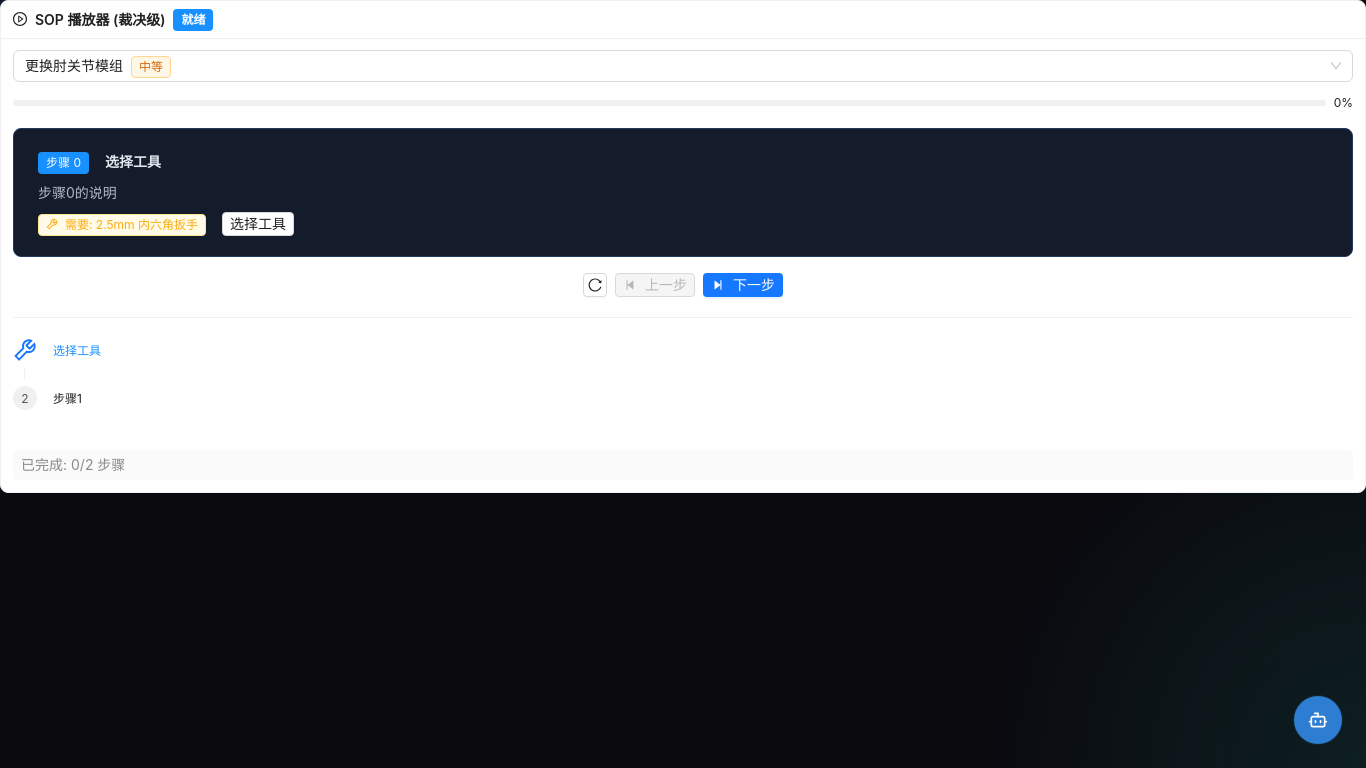
Test: SOPPlayerAdjudicated characterization › enters EXECUTING with an action hint and a 手动验证 button
This screenshot has width=1366, height=768.
IDLE → click executes the step → EXECUTING (no auto-advance due to requiredTool)
What coordinates should you click on to do the following:
click the button "下一步"
I would click on:
 (743, 285)
Its box is top-left (703, 273), bottom-right (783, 297).
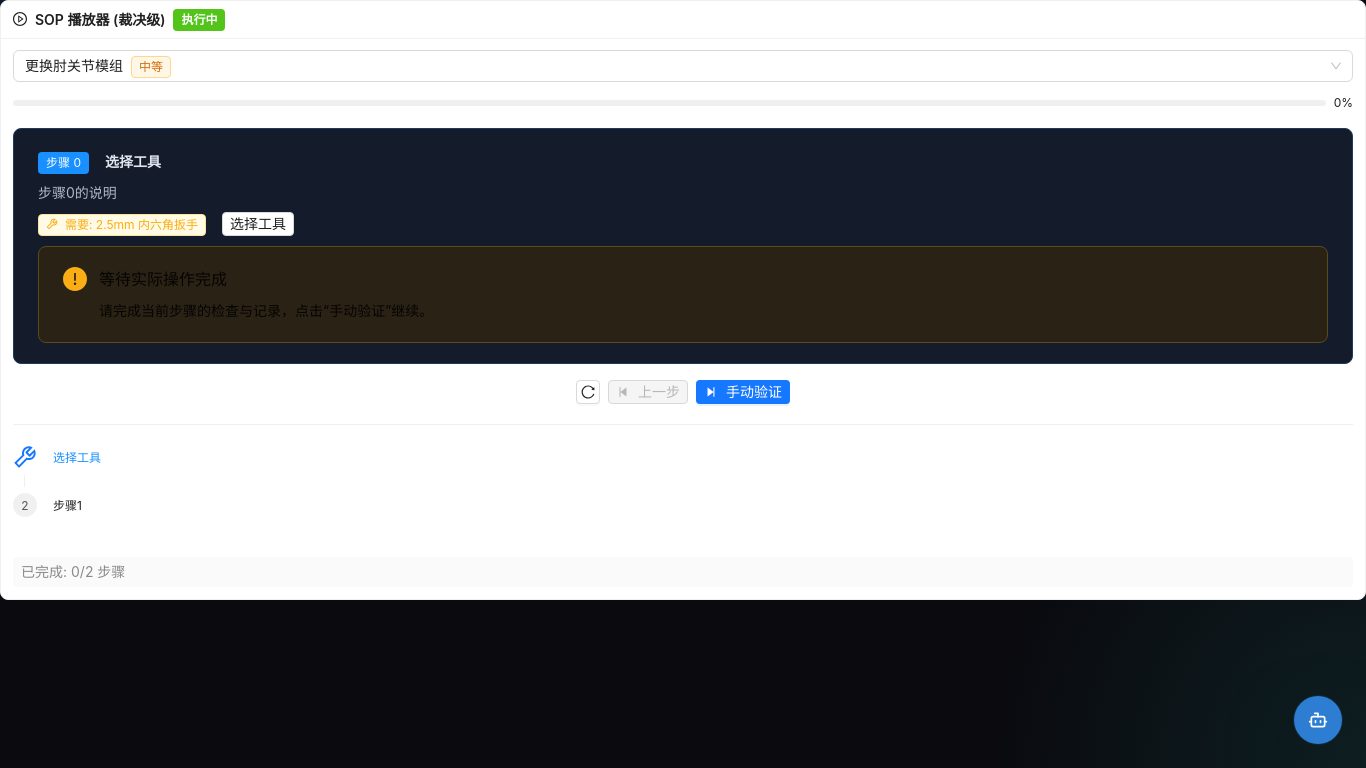
Result: the text "执行中" is shown at top-left (173, 9), bottom-right (225, 31)
Result: the text "请完成当前步骤的检查与记录，点击“手动验证”继续。" is shown at top-left (99, 302), bottom-right (433, 319)
Result: the button "手动验证" is shown at top-left (696, 380), bottom-right (790, 404)
